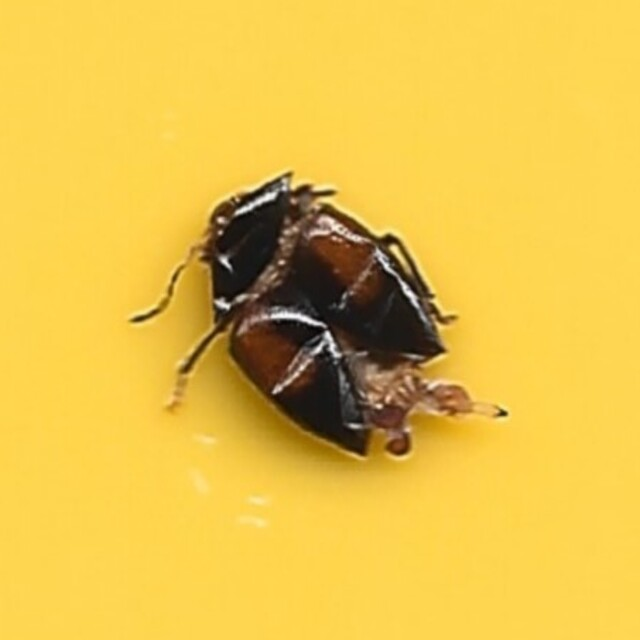Coleoptera: (141, 175, 499, 465)
